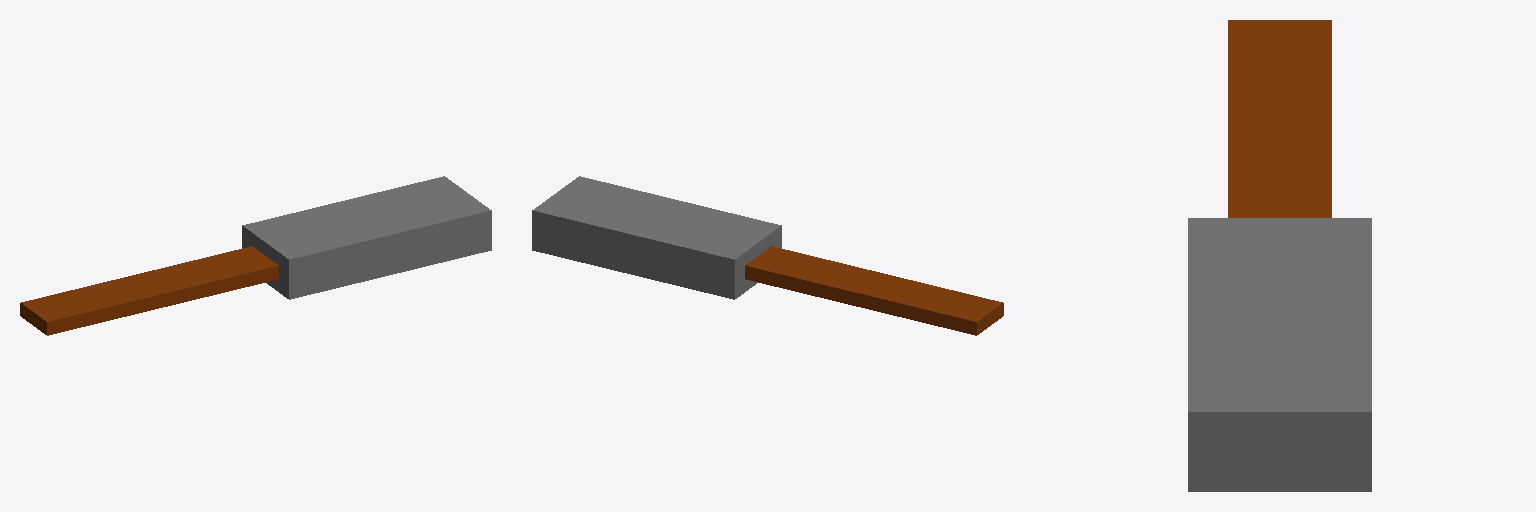
The robot description file, URDF, robot "handle_head":
<?xml version="1.0"?>
<robot name="handle_head">

  <link name="handle_head">
    <!-- Handle -->
    <visual>
              <origin xyz="0 0 0" rpy="0 0 0"/>
        <geometry>
          <box size="0.12370705194549035 0.024562757887528597 0.006998283523887443"/>
        </geometry>
        
      <material name="brown">
        <color rgba="0.55 0.27 0.07 1.0"/>
      </material>
    </visual>
    <collision>
              <origin xyz="0 0 0" rpy="0 0 0"/>
        <geometry>
          <box size="0.12370705194549035 0.024562757887528597 0.006998283523887443"/>
        </geometry>
        
    </collision>

    <!-- Head -->
    <visual>
              <origin xyz="0.11582231486297562 0 0" rpy="0 0 0"/>
        <geometry>
          <box size="0.10793757778046087 0.04328262798016196 0.02045811642593856"/>
        </geometry>
        
      <material name="gray">
        <color rgba="0.5 0.5 0.5 1.0"/>
      </material>
    </visual>
    <collision>
              <origin xyz="0.11582231486297562 0 0" rpy="0 0 0"/>
        <geometry>
          <box size="0.10793757778046087 0.04328262798016196 0.02045811642593856"/>
        </geometry>
        
    </collision>

    <inertial>
      <origin xyz="0.10142112899738415 0 0" rpy="0 0 0"/>
      <mass value="0.05288871158261269"/>
      <inertia ixx="9.202869027627653e-06" iyy="0.00013224080759464542" izz="0.00013815942752474632" ixy="0" ixz="0" iyz="0"/>
    </inertial>
  </link>

</robot>

--- Render facts (derived) ---
Views: 3 orthographic renders of the robot side by side, from view 1: azimuth 30°, elevation 25°; view 2: azimuth 150°, elevation 25°; view 3: azimuth 270°, elevation 25°.
Robot: handle_head — 1 links, 0 joints (none); root link handle_head; default pose: all joints at 0.
Links seen in each view (by area): view 1: handle_head; view 2: handle_head; view 3: handle_head.
Link boxes in pixels (bbox=[...]): handle_head: bbox=[20, 176, 491, 335]; handle_head: bbox=[532, 176, 1003, 335]; handle_head: bbox=[1188, 20, 1371, 491].
Bounding box of the posed robot: 0.2316 × 0.0433 × 0.0205 m (x, y, z).
Geometry: primitives only (box / cylinder / sphere), no mesh files.
